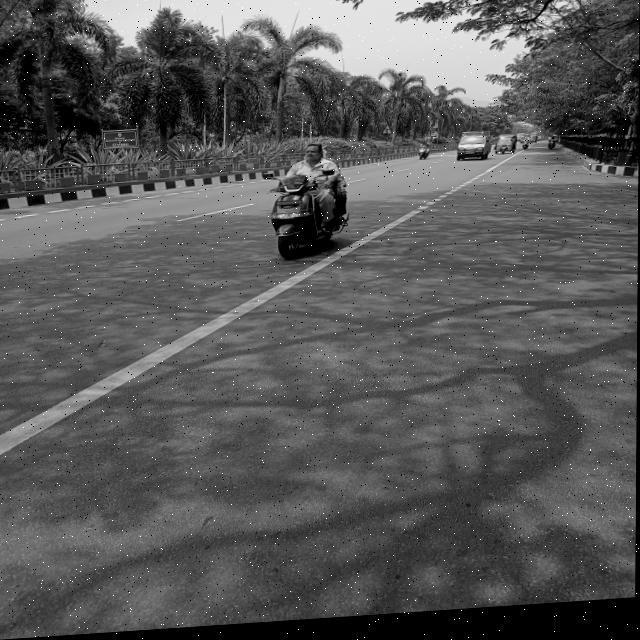bike: (257, 173, 359, 263), (417, 153, 431, 165), (548, 148, 556, 158), (523, 148, 529, 159)
car: (456, 138, 494, 171)
